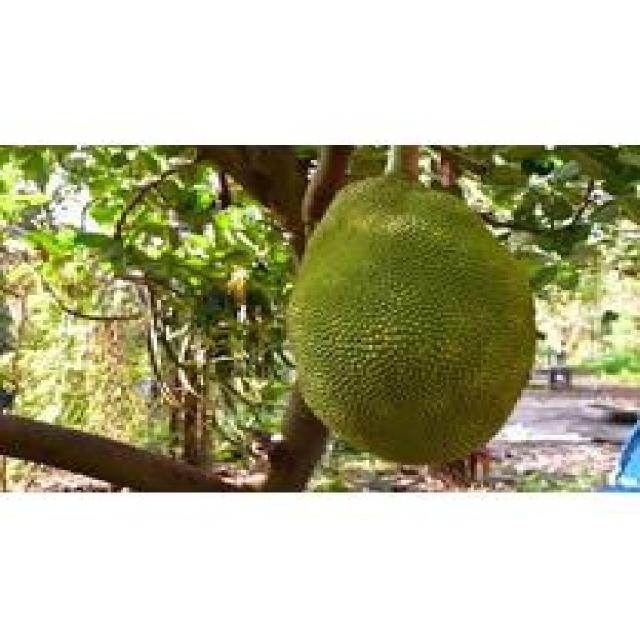Fruit: (268, 170, 550, 475)
